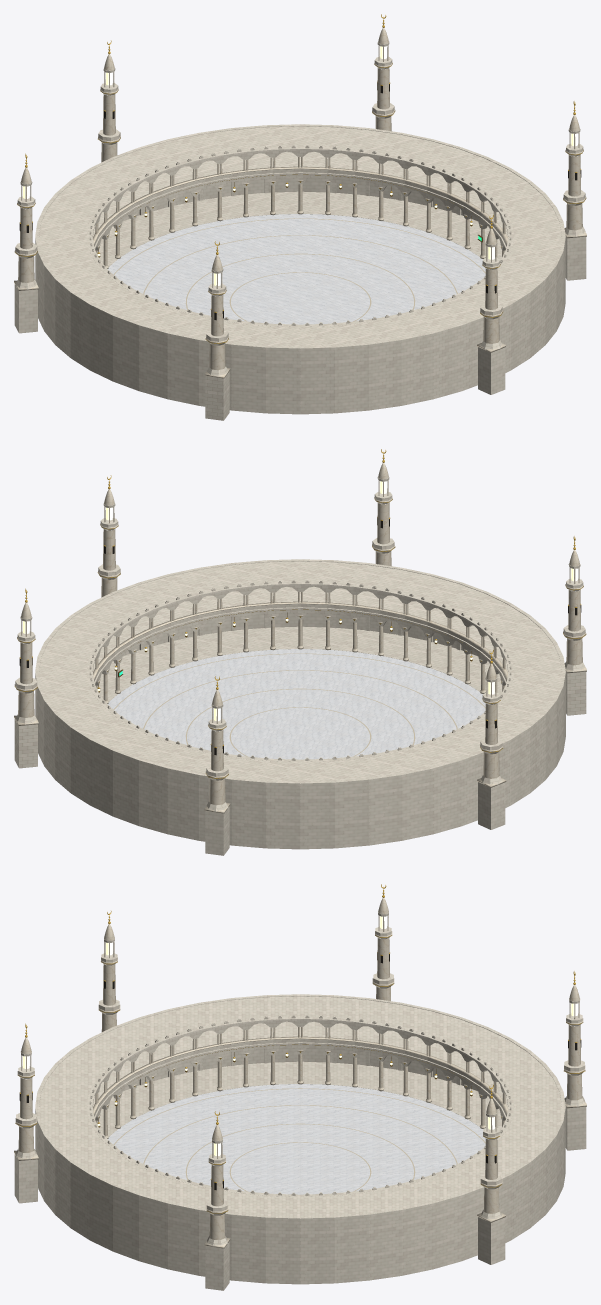
File: haram_mataf.glb
3 views of the same model, one above another, from view 1: azimuth 30°, elevation 25°; view 2: azimuth 150°, elevation 25°; view 3: azimuth 270°, elevation 25° (orthographic).
Parts seen in each view (by area): view 1: haram_mataf_LOD0; view 2: haram_mataf_LOD0; view 3: haram_mataf_LOD0.
Boxes of the visible parts, x1,y1,x2,y2 form: haram_mataf_LOD0: (14,14,586,420); haram_mataf_LOD0: (14,449,586,855); haram_mataf_LOD0: (14,884,586,1290).
Size of what is drawn, in the model's own units: 128 by 43.84 by 130.
10 materials, 4 textured.
